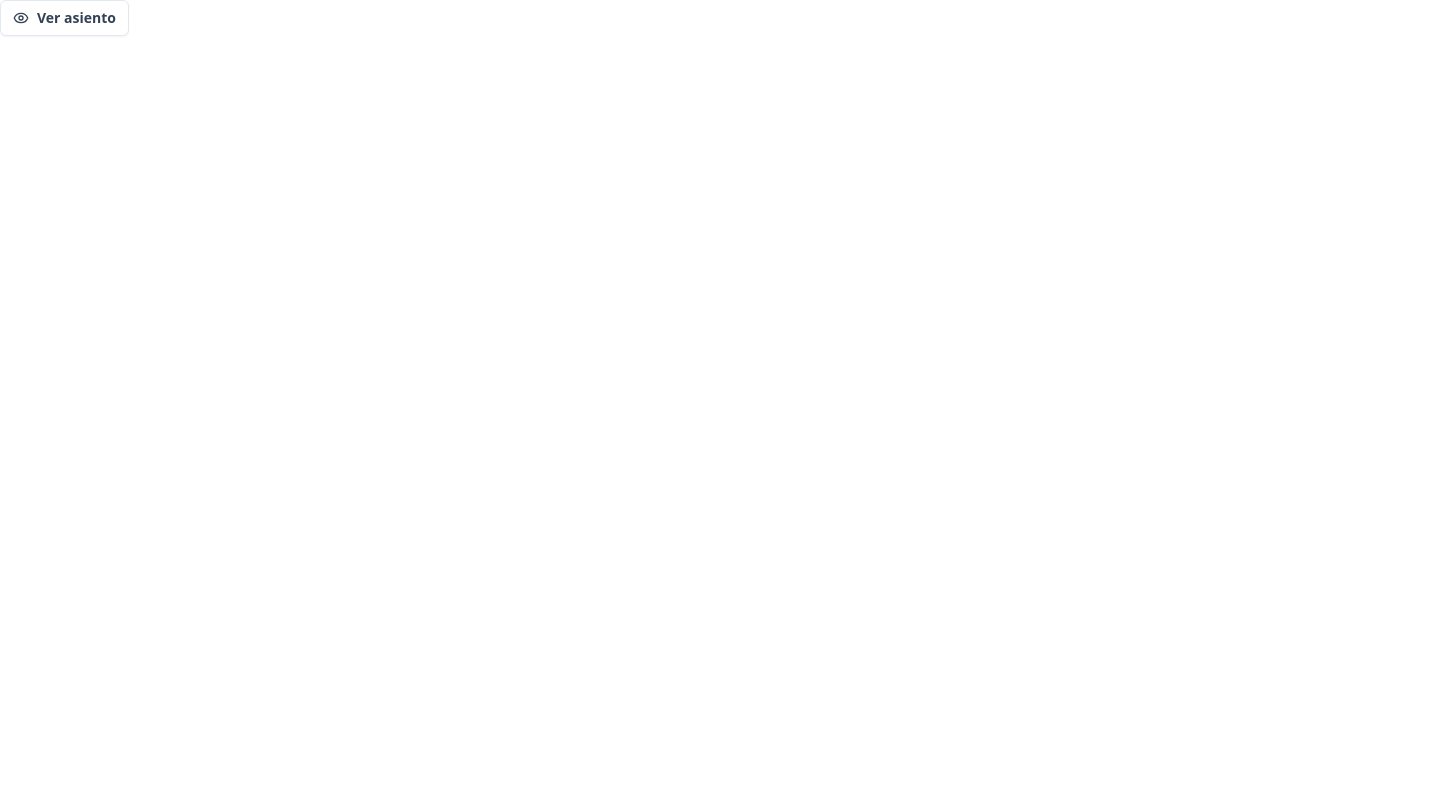
Test: FacturaAsientoViewer › resuelve la cuenta historica al abrir sin modificar la factura
Later steps or results of the test are not shown.
Click the button "Ver asiento" at (64, 18), box [0,0,129,36]
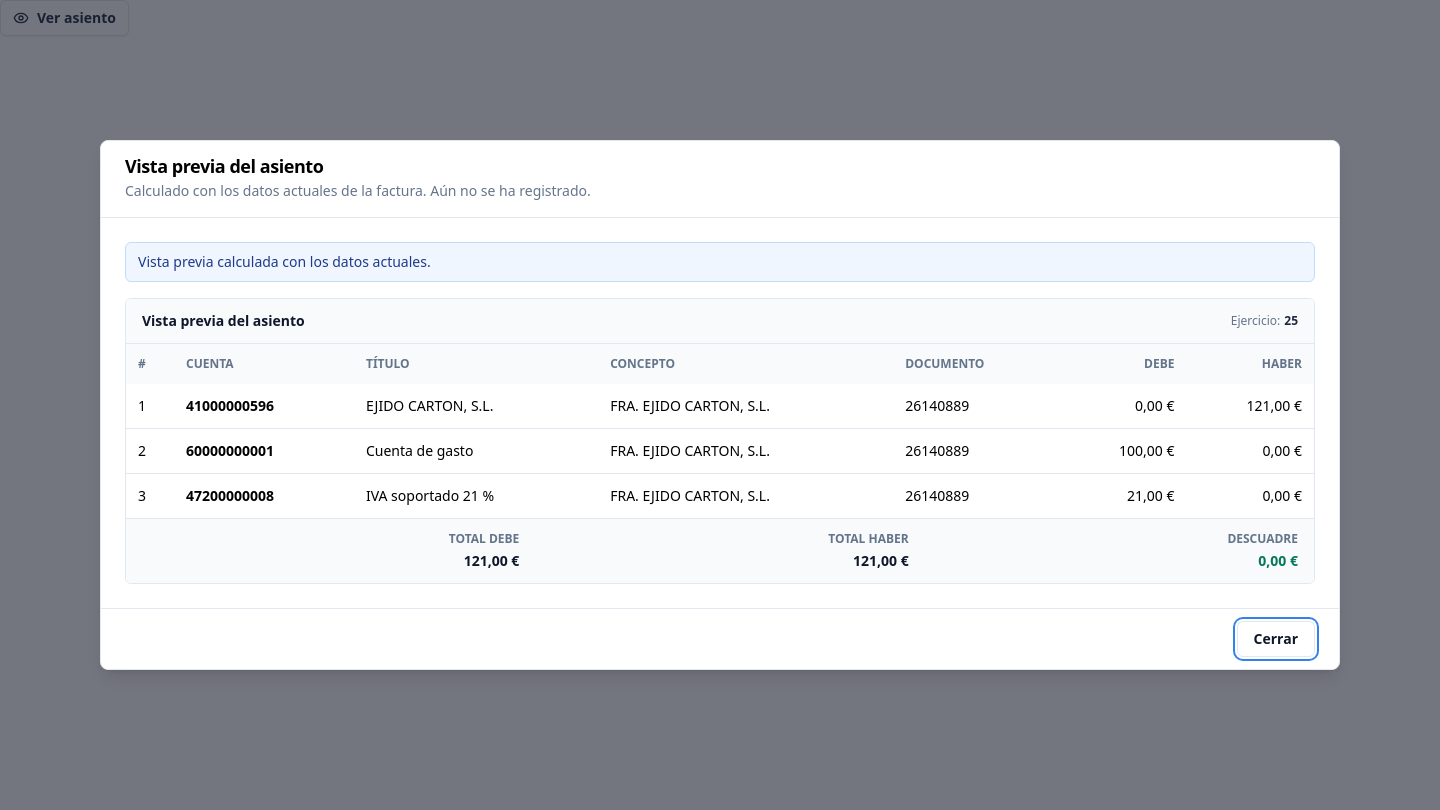
Now the text "47200000008" is shown, box [174,474,354,518]
